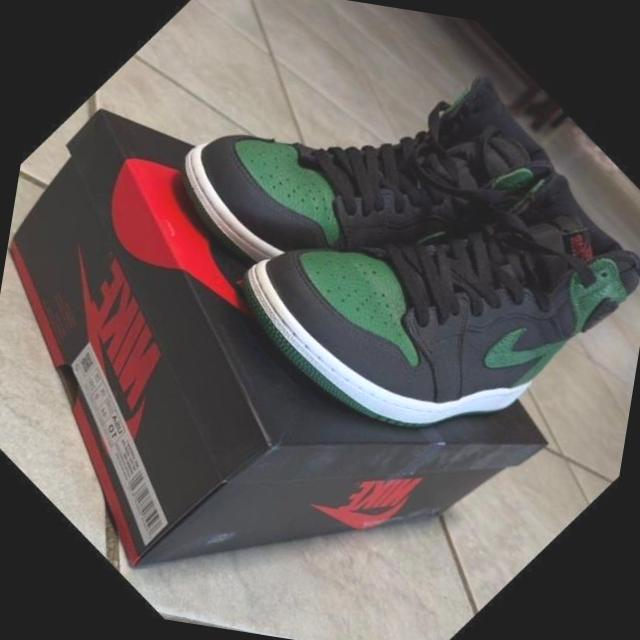nike_original_jordan: (191, 26, 640, 535), (126, 0, 625, 433)
